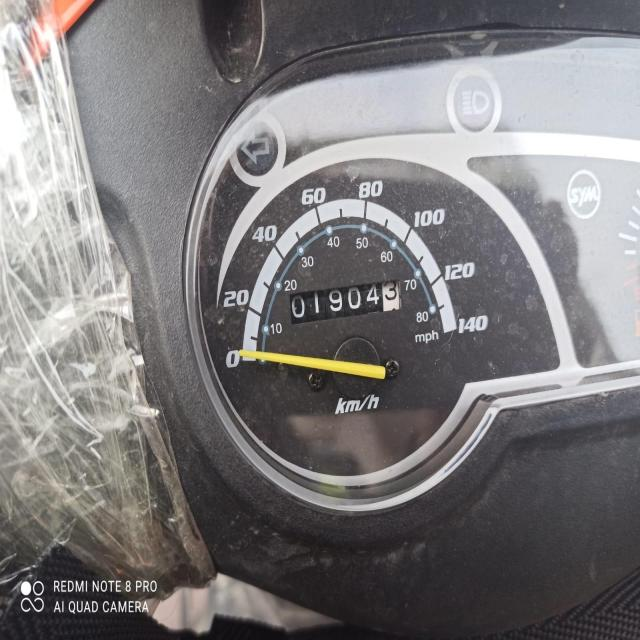odometer: (288, 274, 405, 328)
